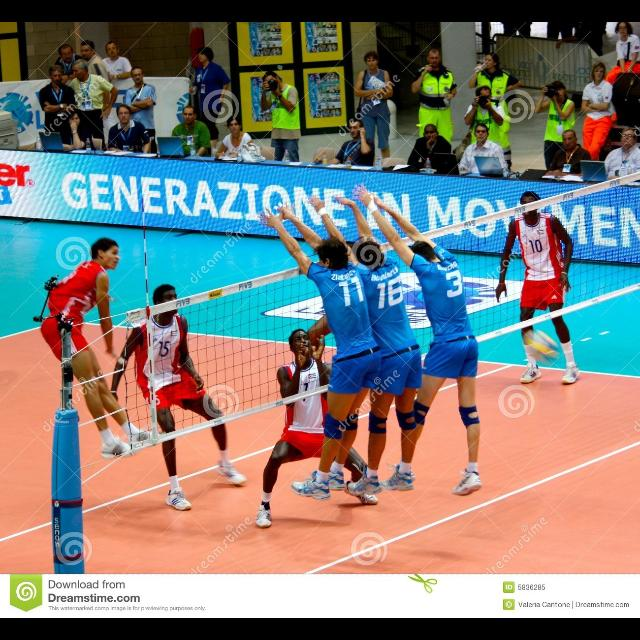head: (90, 236, 122, 272), (318, 240, 348, 272), (352, 242, 384, 272), (410, 240, 438, 270), (154, 285, 180, 315), (289, 329, 313, 356), (521, 192, 539, 218), (72, 60, 90, 80), (48, 64, 64, 86), (422, 124, 440, 142), (80, 40, 96, 60), (117, 104, 133, 124), (562, 130, 578, 150), (476, 87, 492, 107), (182, 106, 198, 124), (264, 72, 280, 90), (474, 124, 490, 142), (621, 128, 637, 146), (426, 48, 442, 66), (484, 52, 500, 70), (550, 81, 566, 99), (60, 44, 74, 64), (592, 62, 606, 82), (131, 67, 145, 85), (228, 117, 242, 135), (350, 120, 364, 138), (365, 52, 379, 70), (106, 42, 120, 58), (198, 47, 212, 63), (69, 111, 81, 127), (618, 22, 630, 38)
person: (350, 182, 484, 498), (256, 199, 384, 503), (303, 193, 425, 499), (108, 282, 250, 514), (38, 235, 164, 461), (253, 328, 381, 530), (494, 190, 582, 386), (310, 117, 376, 237), (452, 84, 508, 216), (65, 57, 121, 177), (457, 122, 511, 246), (466, 50, 522, 168), (538, 128, 592, 250), (408, 47, 459, 175), (258, 68, 304, 200), (38, 64, 78, 204), (406, 123, 452, 243), (188, 45, 232, 168), (353, 50, 395, 178), (106, 104, 152, 218), (534, 80, 576, 202), (52, 108, 100, 212), (122, 66, 160, 192), (170, 104, 212, 216), (581, 59, 617, 182), (213, 115, 254, 219), (78, 39, 112, 164), (98, 40, 134, 142), (51, 43, 87, 141)
